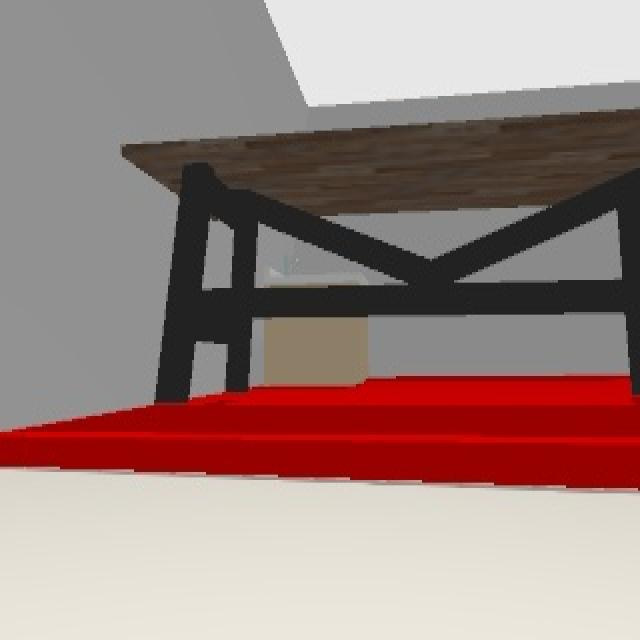dining: (120, 112, 640, 400)
